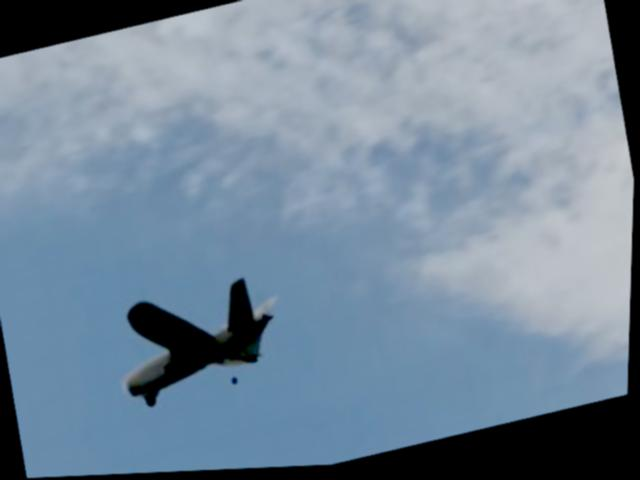uav: (105, 267, 294, 417)
